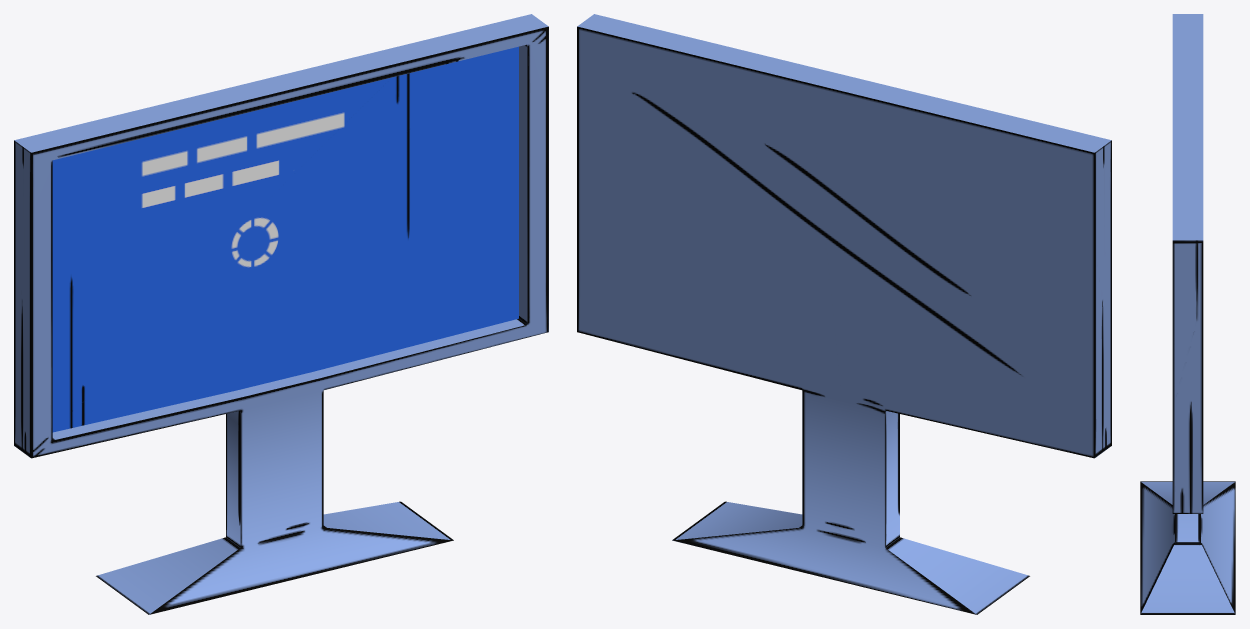
The model's file is monitor.fbx.
The picture shows the model from 3 angles, left to right: view 1: azimuth 30°, elevation 25°; view 2: azimuth 150°, elevation 25°; view 3: azimuth 270°, elevation 25°; orthographic projection. The views are drawn at different scales.
Visible parts, largest first — view 1: monitor1; view 2: monitor1; view 3: monitor1.
Boxes of the visible parts, x1,y1,x2,y2 form: monitor1: (14, 14, 548, 614); monitor1: (577, 14, 1111, 614); monitor1: (1140, 14, 1235, 614).
Bounding box in the file's own units: 0.5595 × 0.4888 × 0.0997.
